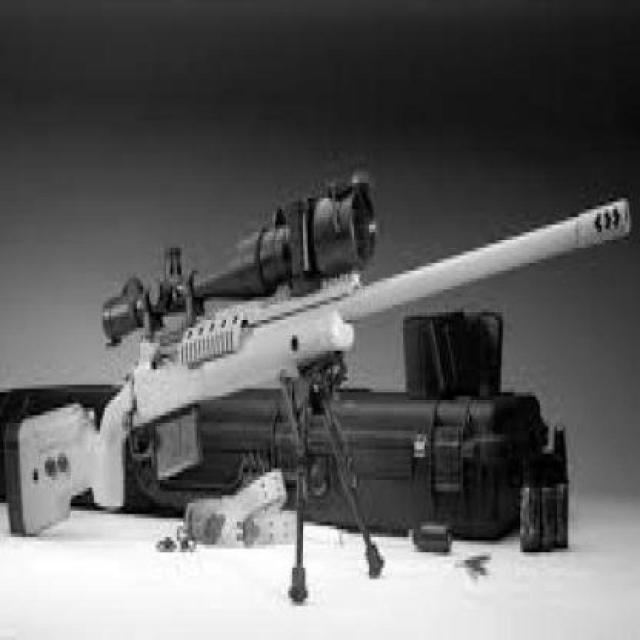weapon: (7, 144, 631, 607)
